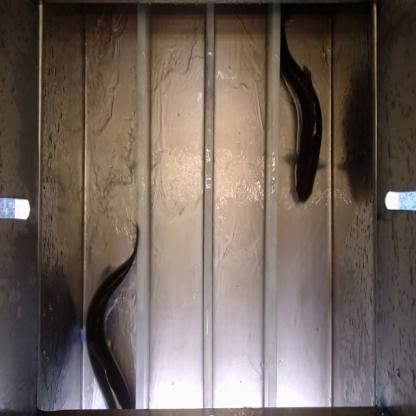pezw: (81, 220, 140, 408), (279, 15, 329, 206)
